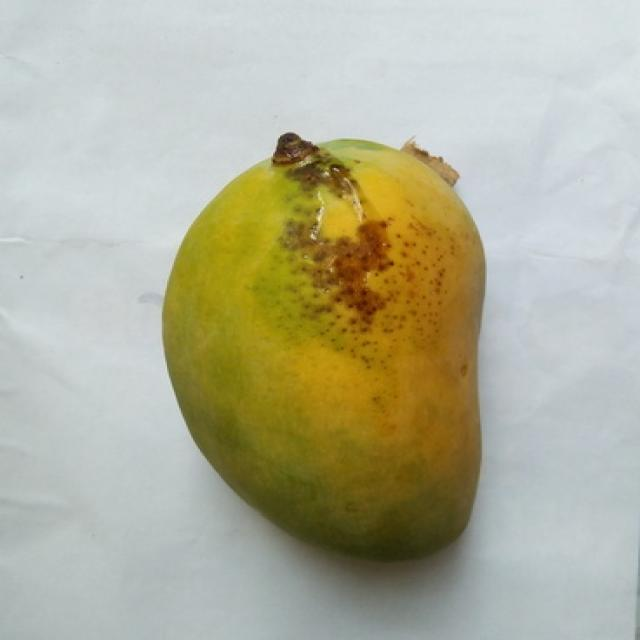Mango: (163, 134, 483, 557)
